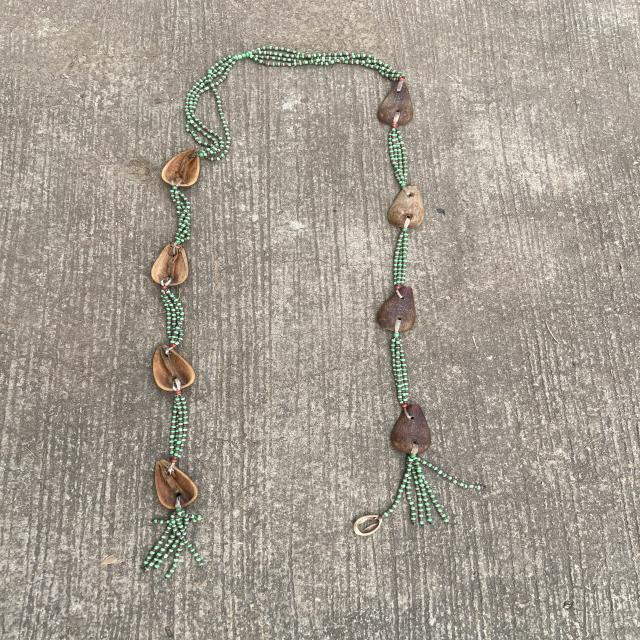facedown: (386, 401, 436, 454), (374, 284, 423, 336), (384, 182, 427, 236), (375, 76, 415, 129)
faceup: (148, 455, 202, 512), (147, 340, 198, 394), (149, 238, 194, 289), (157, 148, 206, 187)
